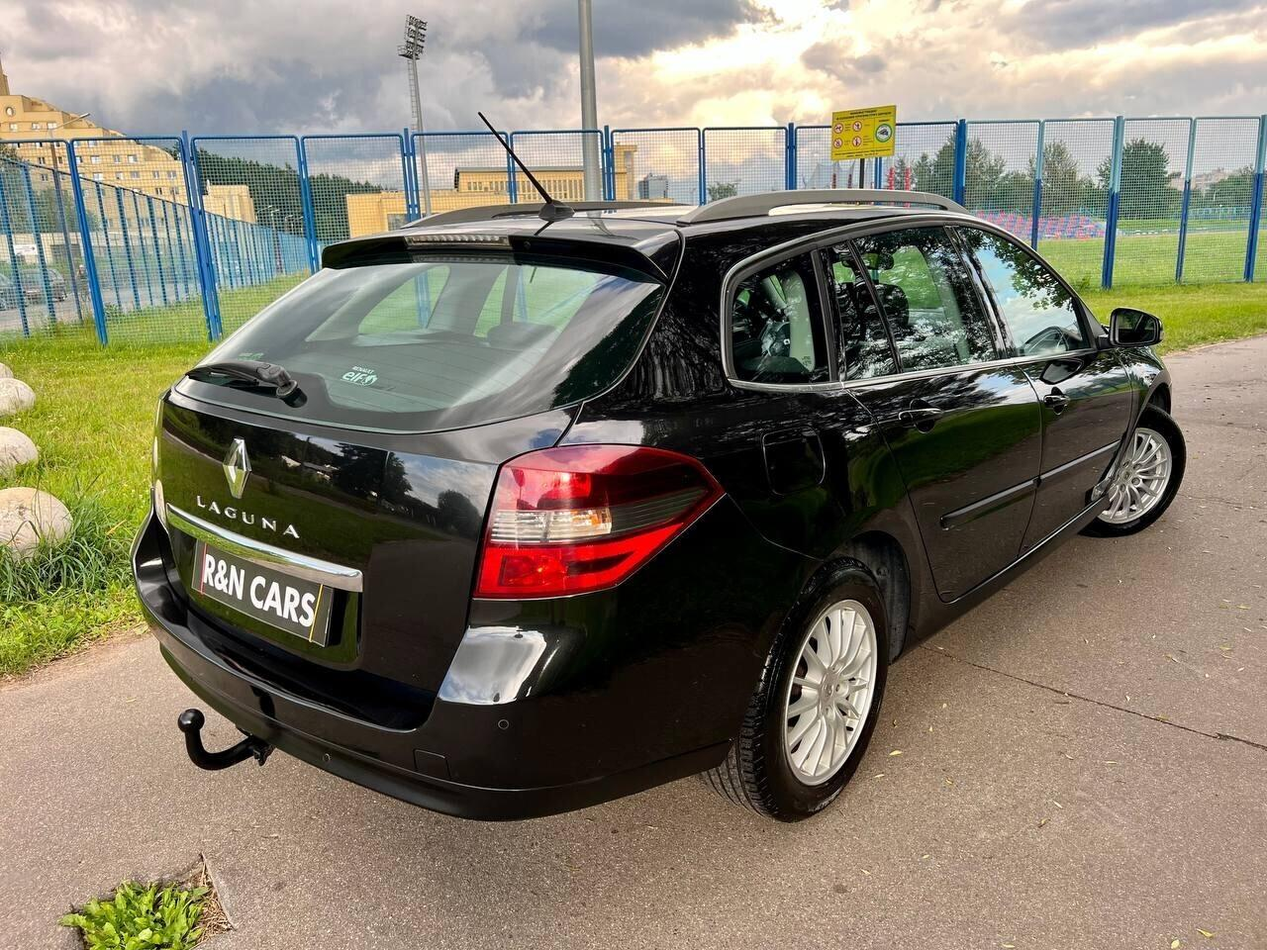Laguna_2010-2015: (122, 183, 1213, 829)
